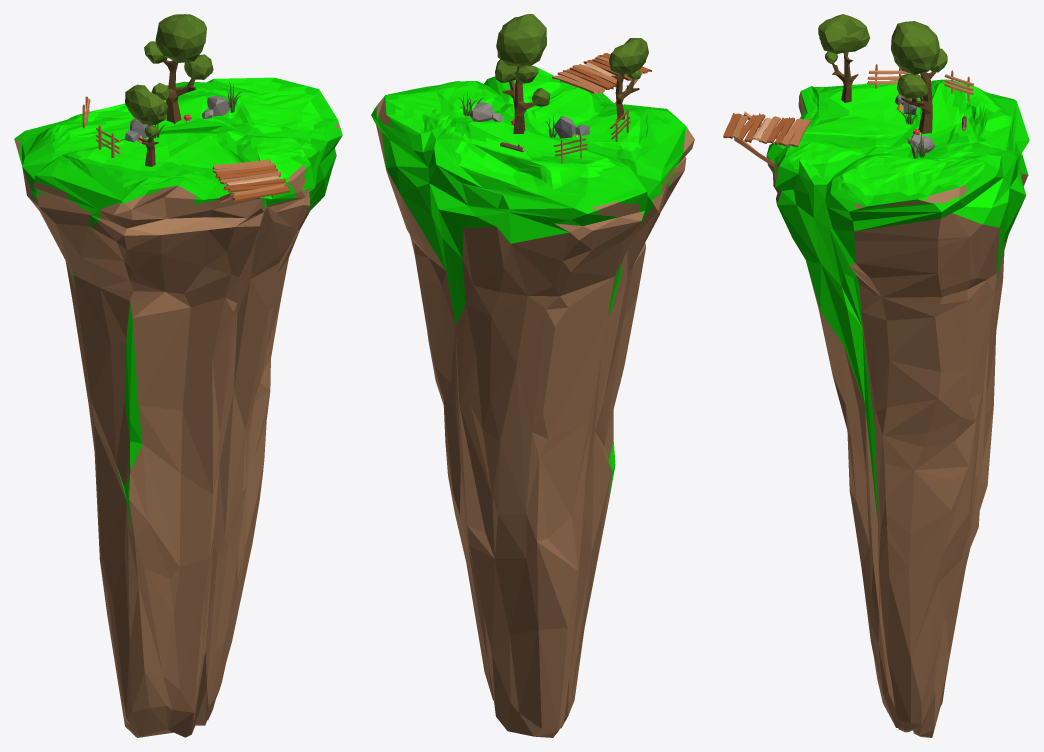
File: Rock1.fbx
3 views of the same model, side by side, from view 1: azimuth 30°, elevation 25°; view 2: azimuth 150°, elevation 25°; view 3: azimuth 270°, elevation 25° (orthographic). The views are drawn at different scales.
Parts seen in each view (by area): view 1: rock1; view 2: rock1; view 3: rock1.
Boxes of the visible parts, x1,y1,x2,y2 form: rock1: (14, 14, 342, 737); rock1: (371, 14, 694, 737); rock1: (723, 14, 1029, 737).
Bounding box in the file's own units: 344 × 830 × 324.
